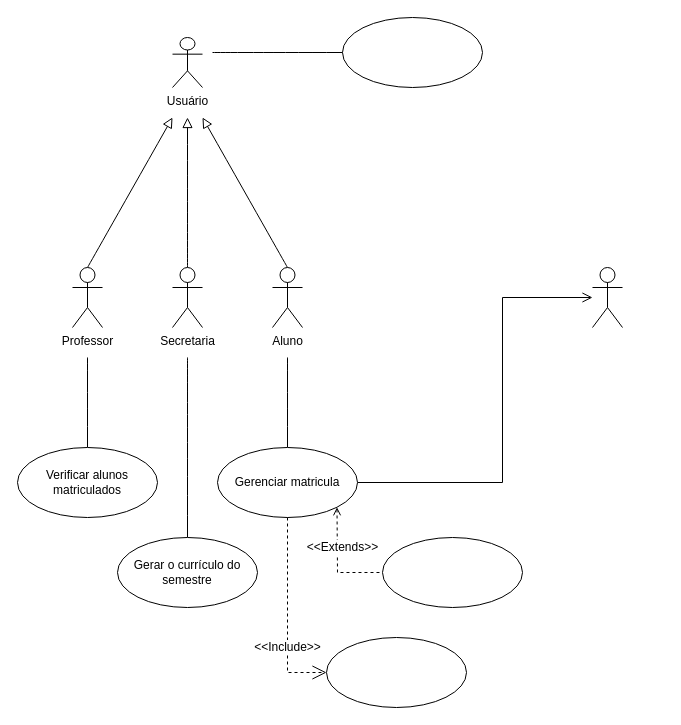
Image size: 681x725. Some labels were removed from this diagram. Each missing label, with the box of its shape:
Cancelar matricula: (382, 536, 522, 608)
Efetivar matricula: (326, 636, 466, 708)
Gerenciar usuário: (342, 16, 482, 88)
Sistema de cobrança: (592, 266, 622, 328)
